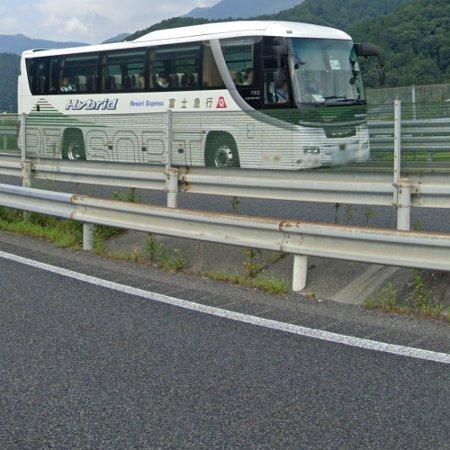buses: (18, 21, 381, 170)
